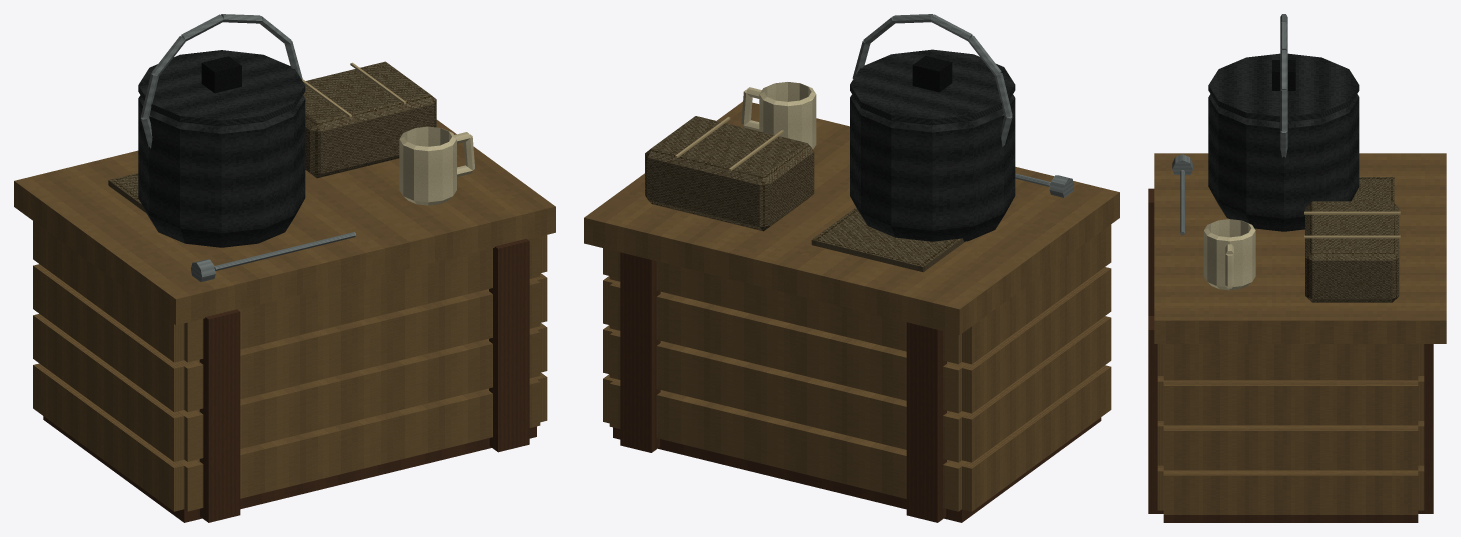
The model's file is level_work_survivor_cookbox.glb.
3 views of the same model, side by side, from view 1: azimuth 30°, elevation 25°; view 2: azimuth 150°, elevation 25°; view 3: azimuth 270°, elevation 25° (orthographic). The views are drawn at different scales.
Visible parts, largest first — view 1: level_work_survivor_cookbox; view 2: level_work_survivor_cookbox; view 3: level_work_survivor_cookbox.
Part boxes in pixels (bbox=[...]): level_work_survivor_cookbox: bbox=[14, 14, 555, 522]; level_work_survivor_cookbox: bbox=[584, 14, 1119, 522]; level_work_survivor_cookbox: bbox=[1148, 14, 1446, 522].
Size of the model in its own units: 0.84 by 0.9167 by 0.6325.
Materials: 8 (8 with a texture image).
